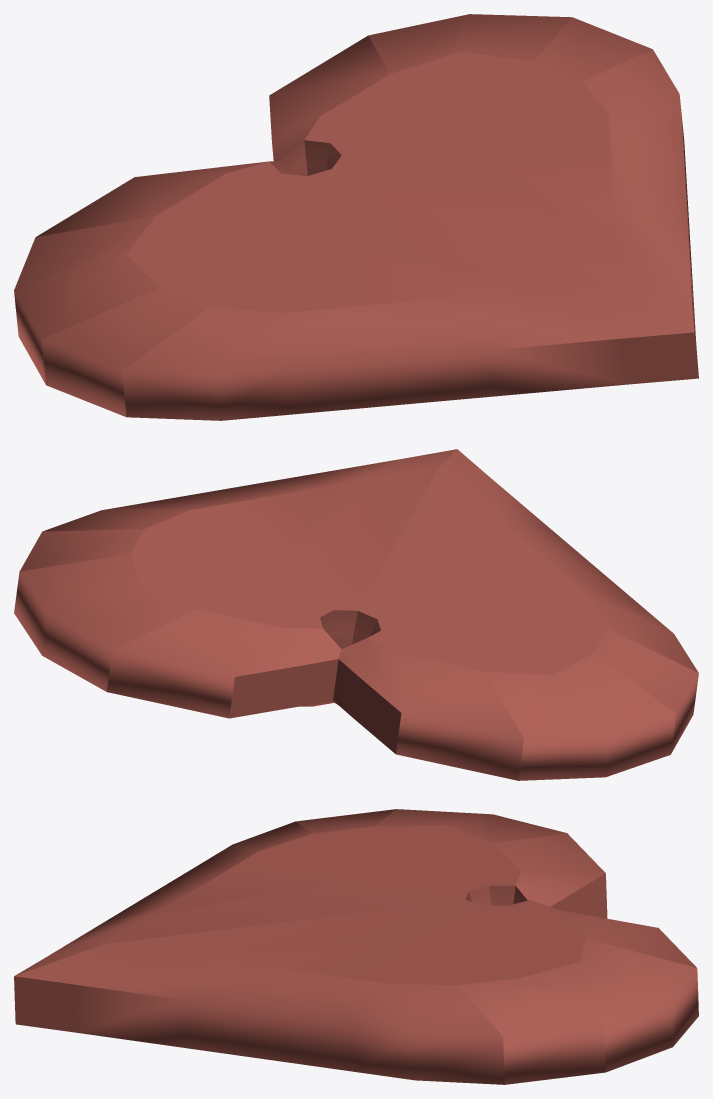
The model's file is Charm.fbx.
3 renders of one model, top to bottom at view 1: azimuth 30°, elevation 25°; view 2: azimuth 150°, elevation 25°; view 3: azimuth 270°, elevation 25°, orthographic. The views are drawn at different scales.
Visible parts, largest first — view 1: Charm; view 2: Charm; view 3: Charm.
Part boxes in pixels (x1,y1,x2,y2): Charm: (14,14,698,420); Charm: (14,449,698,780); Charm: (14,809,698,1084).
Size of the model in its own units: 1.5 by 0.3209 by 1.39.
